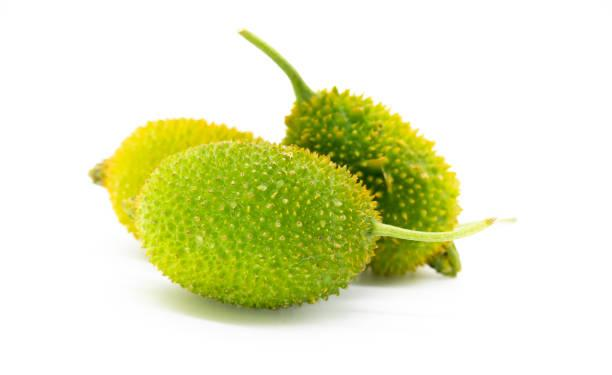spiny groud: (131, 137, 381, 311)
